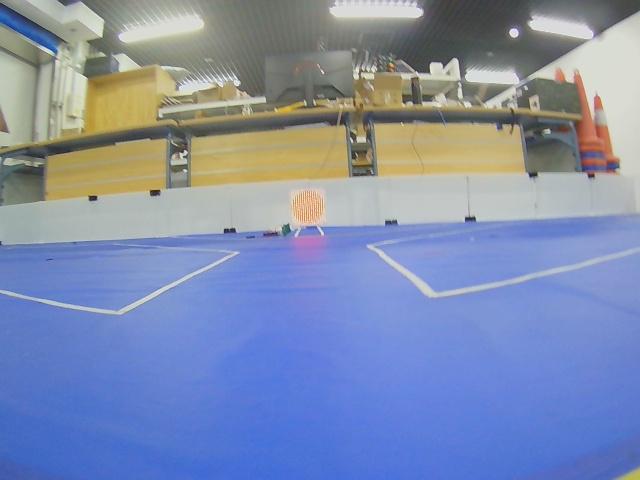red: (291, 189, 325, 226)
